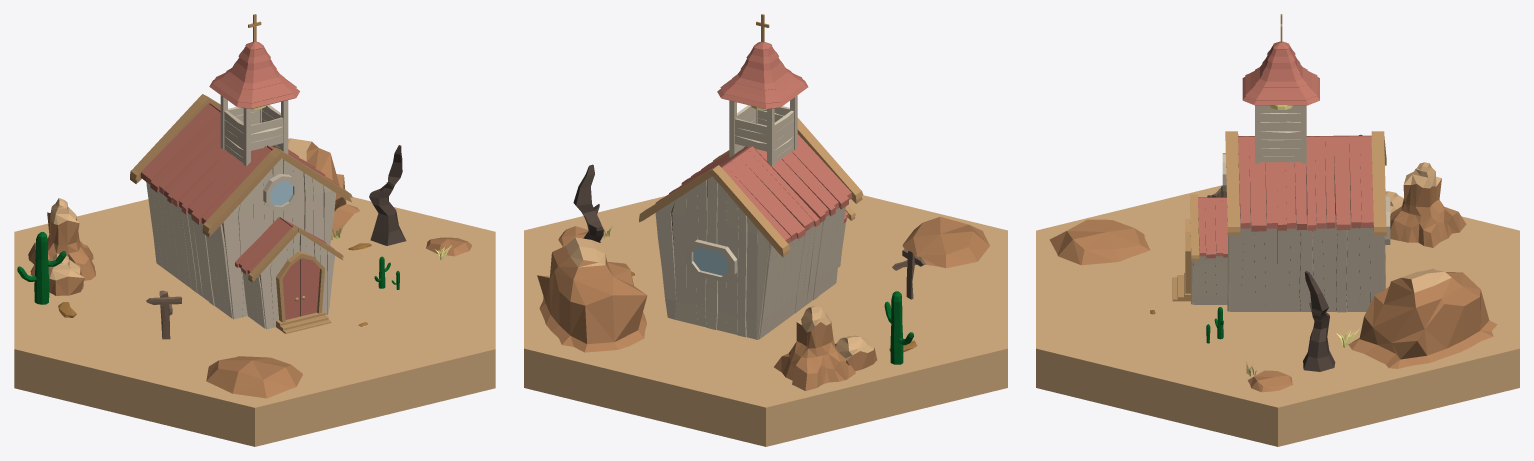
Rendered from Tile_4.fbx.
3 renders of one model, left to right at view 1: azimuth 30°, elevation 25°; view 2: azimuth 150°, elevation 25°; view 3: azimuth 270°, elevation 25°, orthographic.
Parts seen in each view (by area): view 1: Tile_4_Base, Tile_4_Building_Chirch, Tile_4, Tile_4_Dead_Tree, Tile_4_Signpost; view 2: Tile_4_Base, Tile_4_Building_Chirch, Tile_4, Tile_4_Dead_Tree, Tile_4_Signpost; view 3: Tile_4_Base, Tile_4_Building_Chirch, Tile_4, Tile_4_Dead_Tree.
Boxes of the visible parts, x1,y1,x2,y2 form: Tile_4_Base: [14, 197, 495, 446]; Tile_4_Building_Chirch: [130, 14, 352, 333]; Tile_4: [17, 138, 471, 398]; Tile_4_Dead_Tree: [369, 145, 406, 245]; Tile_4_Signpost: [146, 290, 181, 339]; Tile_4_Base: [524, 195, 1007, 446]; Tile_4_Building_Chirch: [639, 14, 863, 339]; Tile_4: [537, 217, 989, 390]; Tile_4_Dead_Tree: [573, 164, 603, 242]; Tile_4_Signpost: [892, 248, 925, 299]; Tile_4_Base: [1036, 185, 1519, 446]; Tile_4_Building_Chirch: [1172, 14, 1390, 312]; Tile_4: [1049, 134, 1497, 392]; Tile_4_Dead_Tree: [1303, 270, 1335, 371].
Size of the model in its own units: 2318 by 2007 by 1442.
